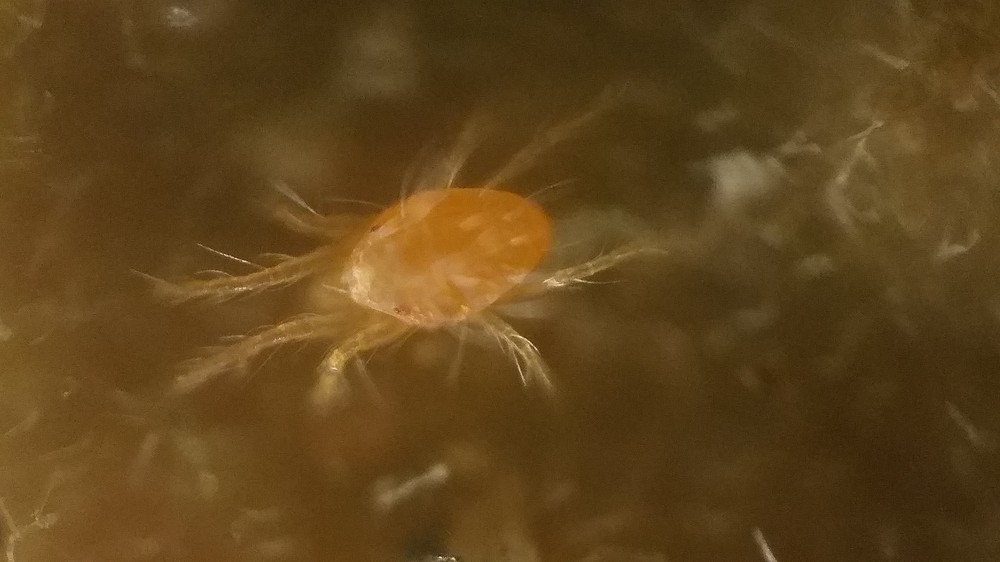Aracnido Rojo: (158, 83, 705, 441)
